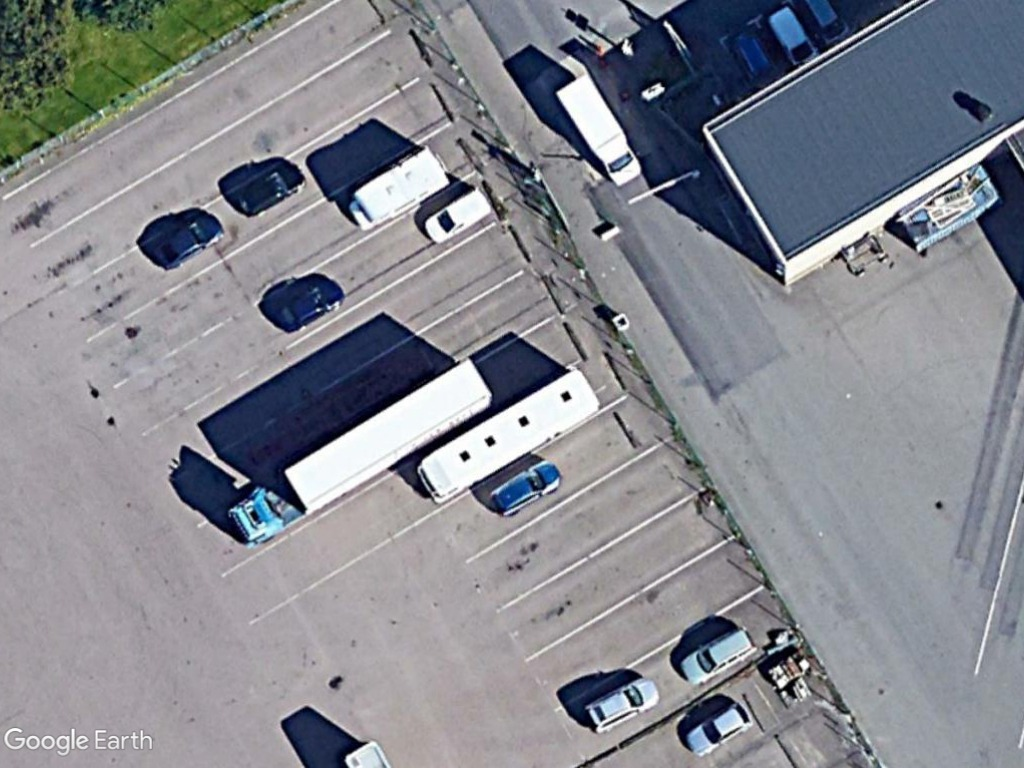bus: (411, 364, 614, 511)
car: (678, 621, 762, 690), (148, 207, 228, 272), (583, 675, 663, 735), (275, 275, 352, 336), (233, 157, 307, 220), (679, 698, 754, 759), (486, 460, 567, 514)
longvehicle: (217, 357, 495, 559)
truck: (549, 71, 648, 190)
van: (419, 184, 493, 248)
